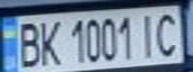0: (81, 15, 103, 63), (100, 15, 118, 62)
1: (115, 12, 136, 61), (63, 16, 84, 64)
B: (12, 18, 45, 69)
C: (151, 9, 184, 58)
I: (136, 10, 160, 58)
K: (36, 16, 66, 68)
